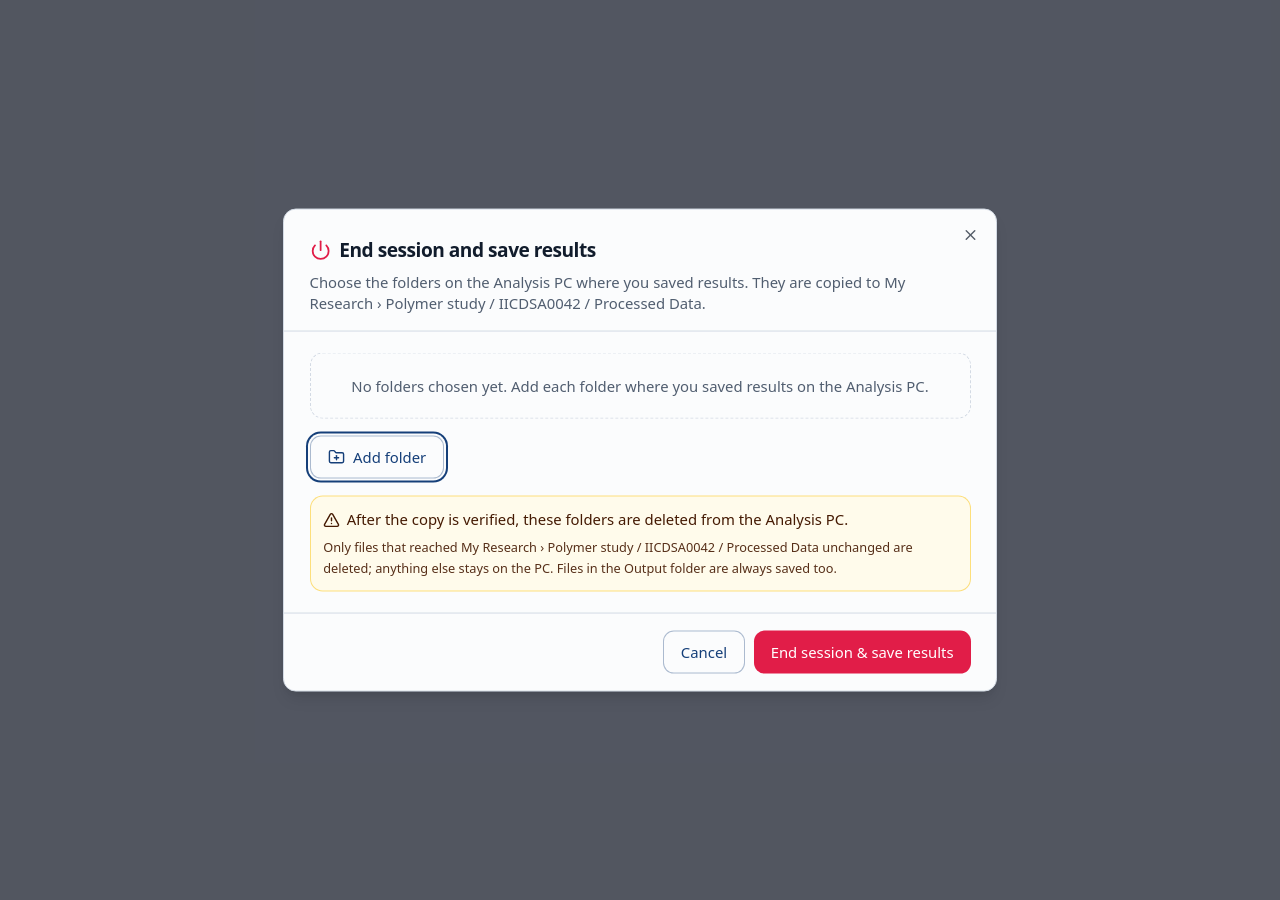
EndSessionDialog › explains why a drive cannot be chosen
Click the button "Add folder" at (377, 457), box [310,436,444,478]
Wait 1100 ms
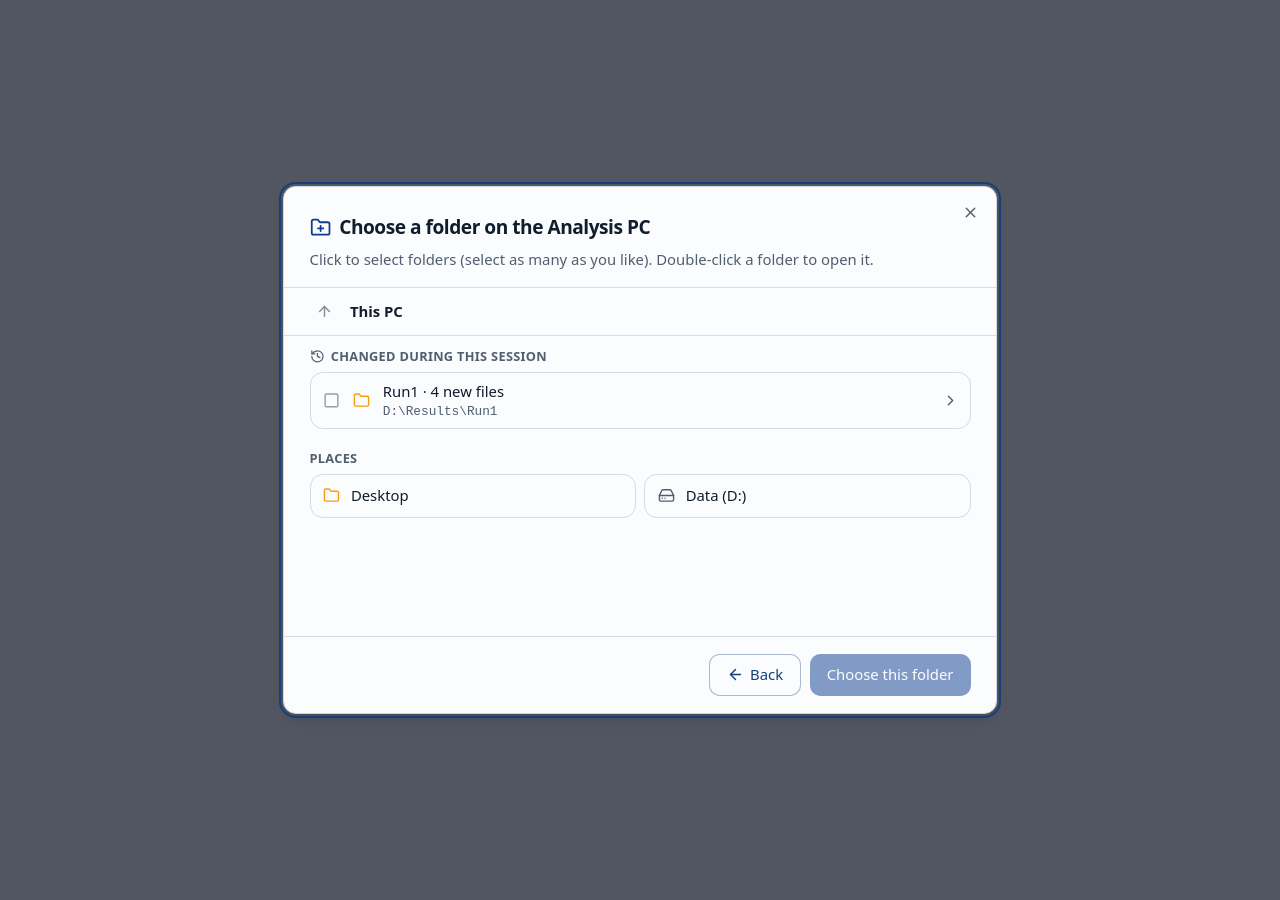
Expected: the element with test id "folder-browser" shows "Places", [310,449,358,467]
Click the button "Data (D:)" at (716, 495), box [644,474,971,518]
Wait 1100 ms
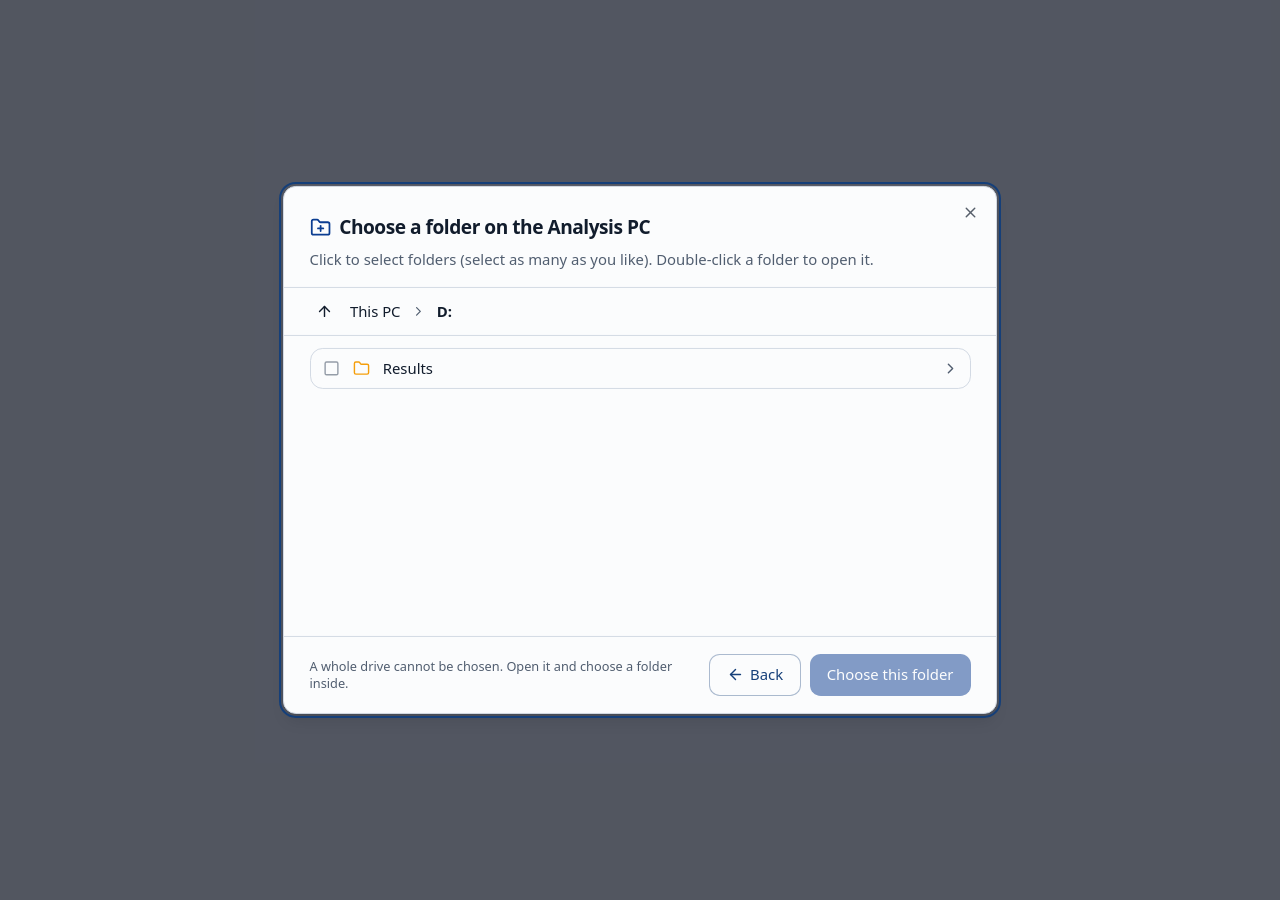
Expected: the button "Choose this folder" is disabled, [810,654,970,696]
Expected: the element with test id "folder-browser" reads "Results", [310,349,931,388]
Expected: the text with test id "choose-hint" shows "A whole drive cannot be chosen", [310,657,672,692]
